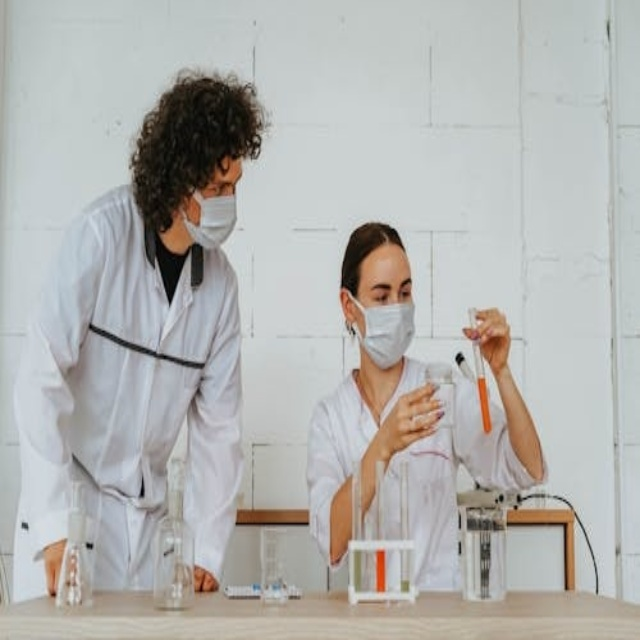Mascara: (348, 292, 415, 368), (181, 186, 238, 249)
Sin_gafas: (202, 167, 247, 204), (367, 281, 417, 311)
Sin_guantes: (378, 382, 445, 463), (461, 292, 516, 377), (39, 538, 73, 596), (192, 564, 219, 593)
